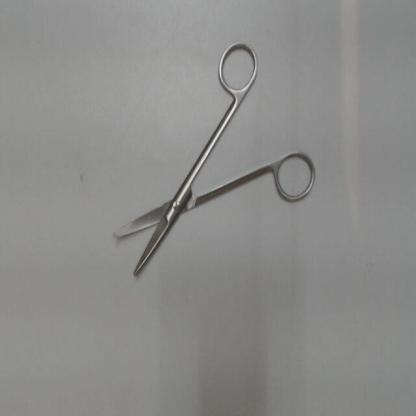Curved Mayo Scissors: (103, 34, 321, 286)
